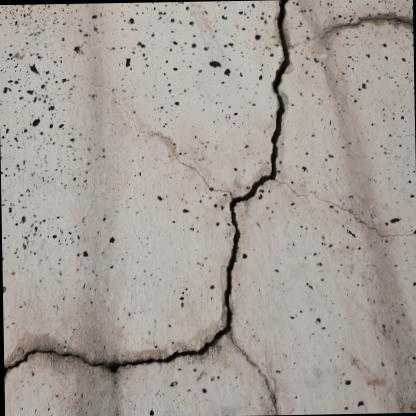crack: (3, 0, 290, 380)
